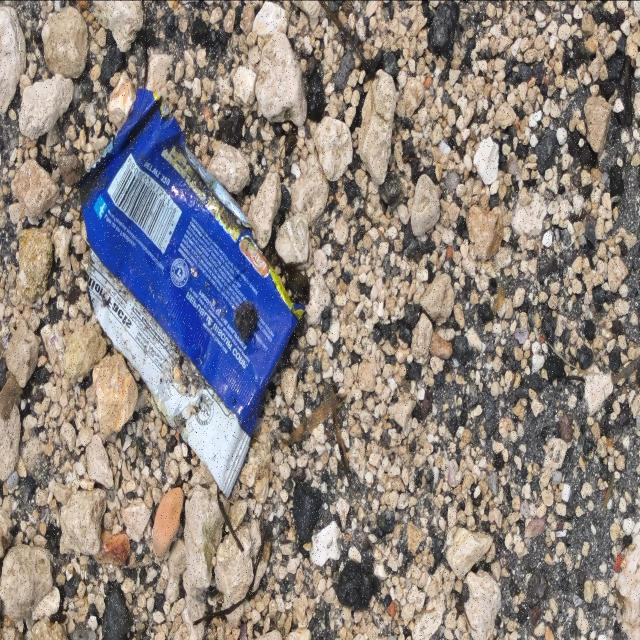plastic_waste: (80, 87, 310, 502)
